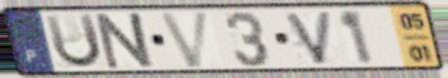1: (338, 8, 376, 66)
3: (224, 9, 271, 69)
N: (93, 10, 159, 71)
U: (42, 12, 105, 71)
V: (156, 9, 213, 70), (281, 9, 336, 67)
